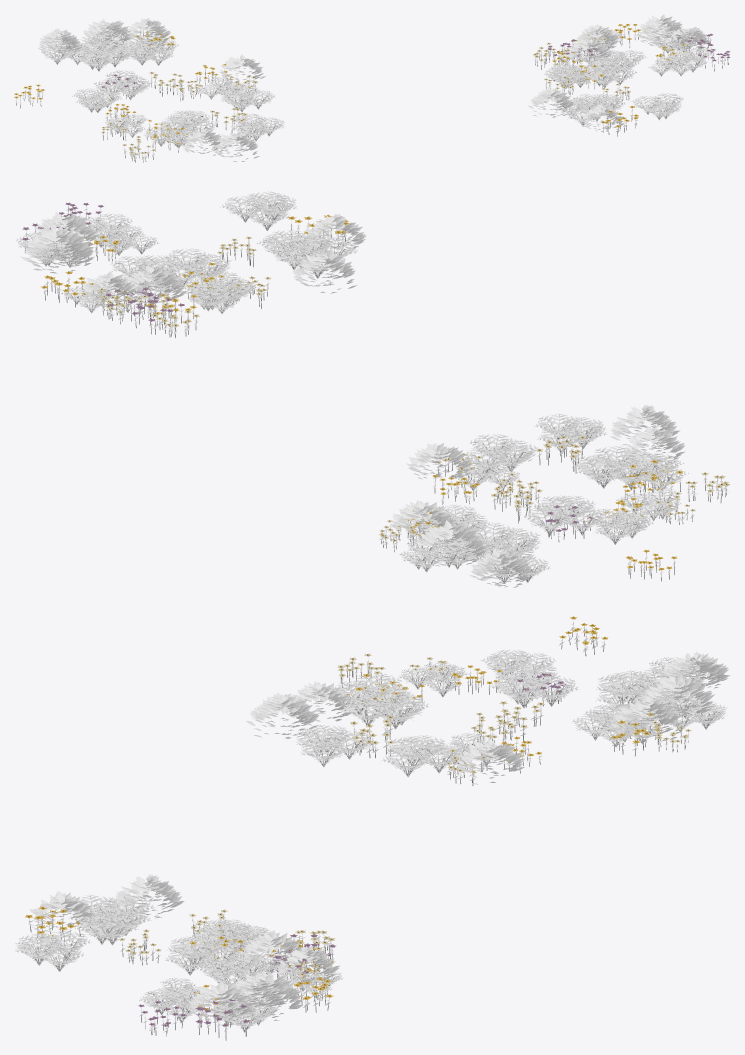
The model's file is SM_DF_Explorer_0_1_Flora.fbx.
3 renders of one model, top to bottom at view 1: azimuth 30°, elevation 25°; view 2: azimuth 150°, elevation 25°; view 3: azimuth 270°, elevation 25°, orthographic. The views are drawn at different scales.
Visible parts, largest first — view 1: SM_DF_Explorer_0_1_Flora; view 2: SM_DF_Explorer_0_1_Flora; view 3: SM_DF_Explorer_0_1_Flora.
Boxes of the visible parts, left/top/right/bottom form: SM_DF_Explorer_0_1_Flora: left=14, top=14, right=730, bottom=162; SM_DF_Explorer_0_1_Flora: left=16, top=191, right=730, bottom=587; SM_DF_Explorer_0_1_Flora: left=15, top=616, right=730, bottom=1040.
Bounding box in the file's own units: 2818 × 2032 × 203.
